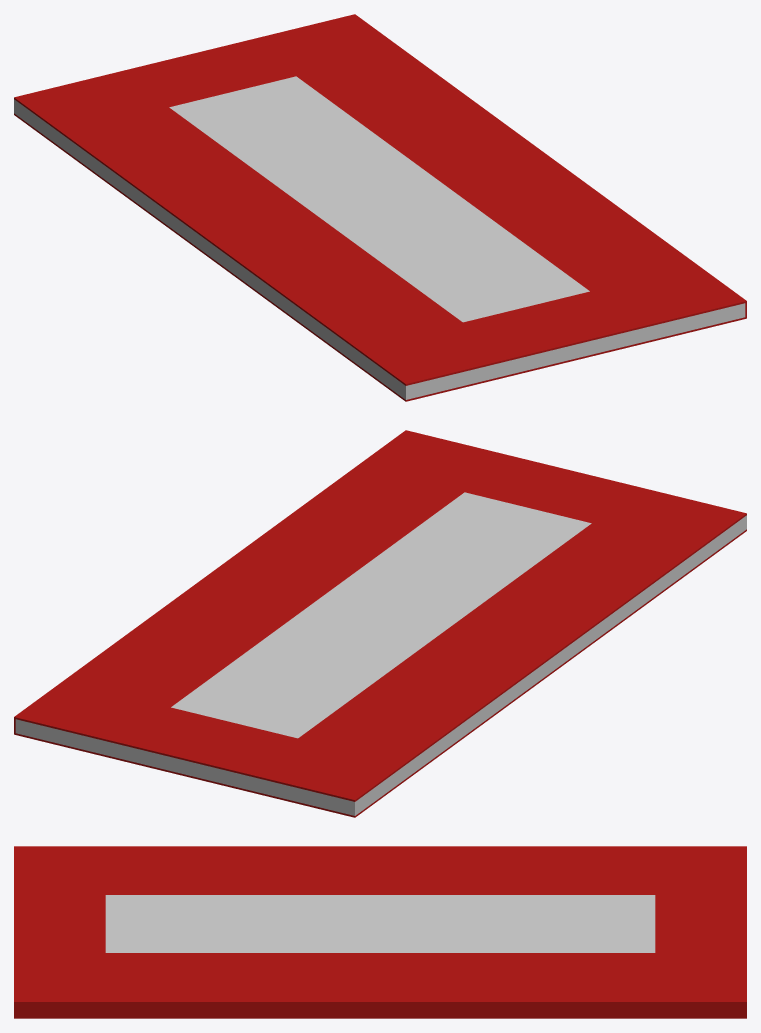
Rendered from Book15.fbx.
3 renders of one model, top to bottom at view 1: azimuth 30°, elevation 25°; view 2: azimuth 150°, elevation 25°; view 3: azimuth 270°, elevation 25°, orthographic. The views are drawn at different scales.
Parts seen in each view (by area): view 1: Cube; view 2: Cube; view 3: Cube.
Boxes of the visible parts, box(x1,y1,x2,y2) form: Cube: box(14, 14, 746, 401); Cube: box(14, 430, 746, 817); Cube: box(14, 846, 746, 1018).
Size of the model in its own units: 0.1005 by 0.00496 by 0.2.
